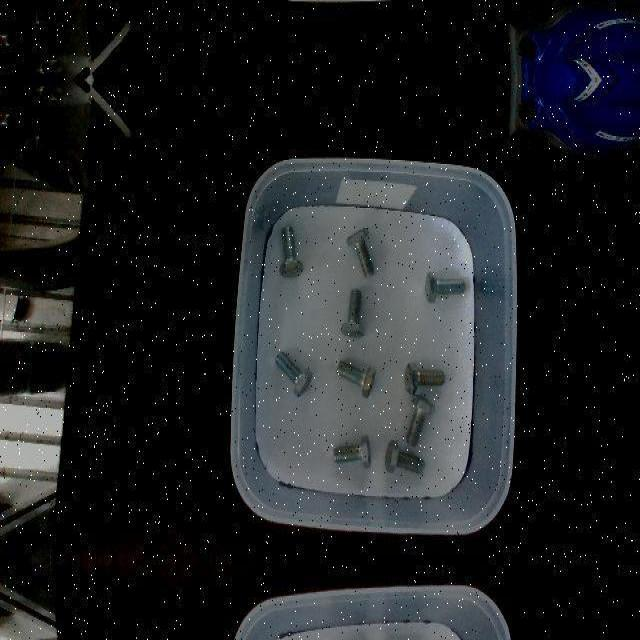screw: (274, 350, 312, 398), (406, 392, 435, 446), (335, 360, 375, 398), (346, 227, 375, 277), (384, 439, 425, 473), (425, 271, 466, 303), (404, 362, 445, 394), (334, 434, 371, 468), (279, 226, 303, 278), (341, 289, 365, 339)
